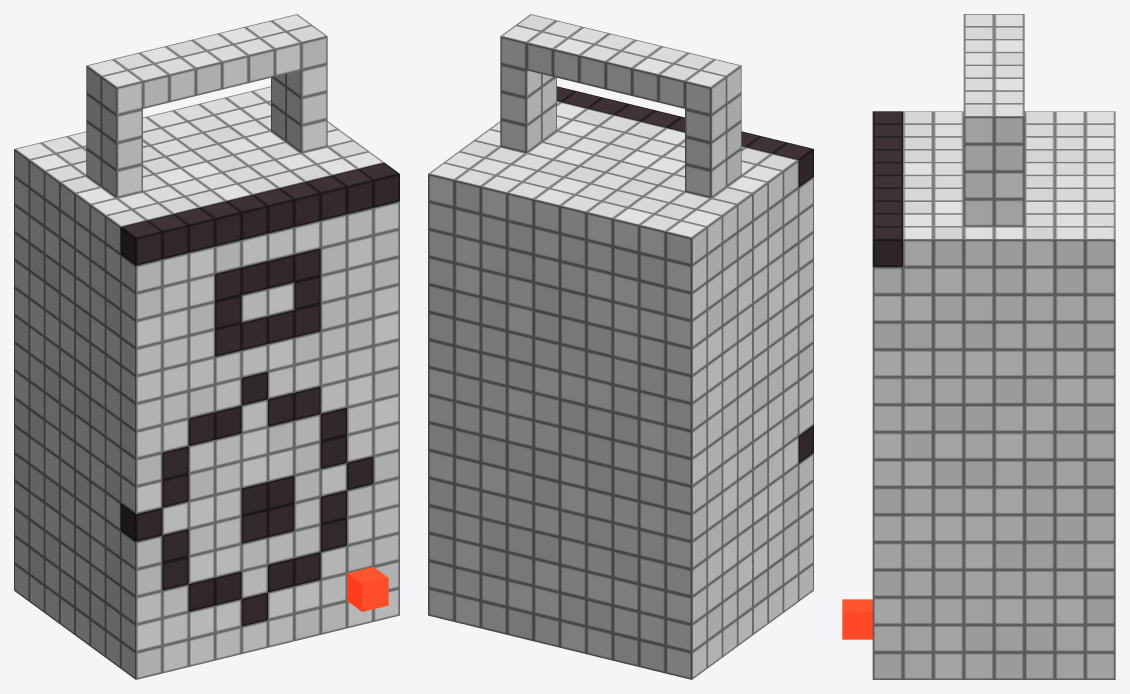
Rendered from pa_speaker.glb.
The picture shows the model from 3 angles, left to right: view 1: azimuth 30°, elevation 25°; view 2: azimuth 150°, elevation 25°; view 3: azimuth 270°, elevation 25°; orthographic projection.
Parts seen in each view (by area): view 1: pa_speaker; view 2: pa_speaker; view 3: pa_speaker.
Part boxes in pixels (box(x1,y1,x2,y2)): pa_speaker: box(14, 14, 399, 679); pa_speaker: box(428, 14, 813, 679); pa_speaker: box(842, 14, 1115, 679).
Size of the model in its own units: 0.5 by 1 by 0.45.
Materials: 4 (3 with a texture image).
